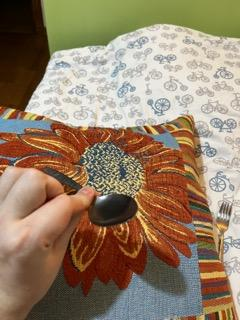spoon: (41, 164, 143, 229)
